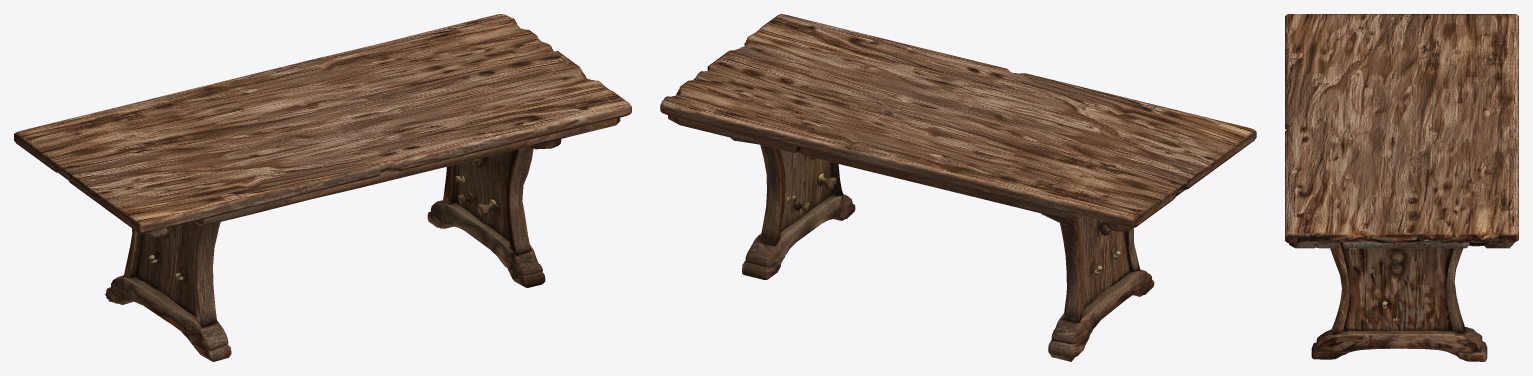
File: theme-conference-table-v05.glb
3 renders of one model, left to right at view 1: azimuth 30°, elevation 25°; view 2: azimuth 150°, elevation 25°; view 3: azimuth 270°, elevation 25°, orthographic. The views are drawn at different scales.
Visible parts, largest first — view 1: tripo_node_7f2deb86-ee65-4ee2-8d6e-47a65da41e77; view 2: tripo_node_7f2deb86-ee65-4ee2-8d6e-47a65da41e77; view 3: tripo_node_7f2deb86-ee65-4ee2-8d6e-47a65da41e77.
Boxes of the visible parts, <box> form: tripo_node_7f2deb86-ee65-4ee2-8d6e-47a65da41e77: <box>14,14,631,361</box>; tripo_node_7f2deb86-ee65-4ee2-8d6e-47a65da41e77: <box>660,14,1256,361</box>; tripo_node_7f2deb86-ee65-4ee2-8d6e-47a65da41e77: <box>1285,14,1518,361</box>.
Bounding box in the file's own units: 2.19 × 0.76 × 0.9833.
Materials: 1 (1 with a texture image).
